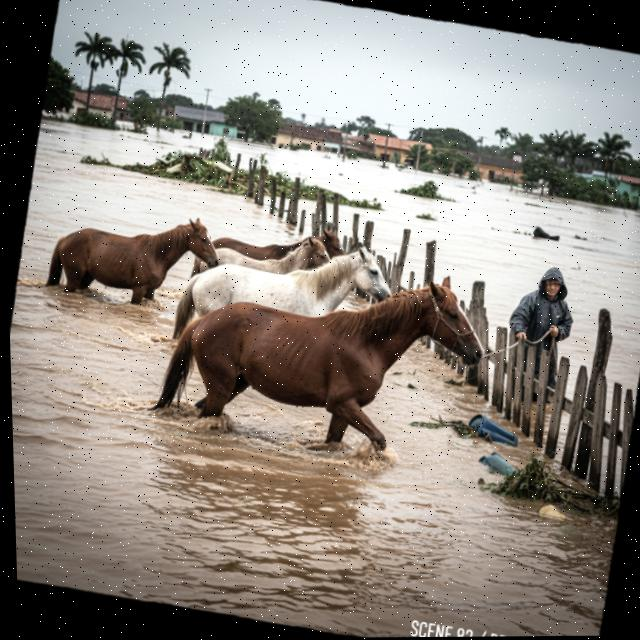civilian: (493, 247, 588, 405)
horse: (170, 239, 504, 478), (173, 217, 405, 352), (26, 186, 220, 327), (196, 218, 339, 294), (212, 206, 357, 273)
